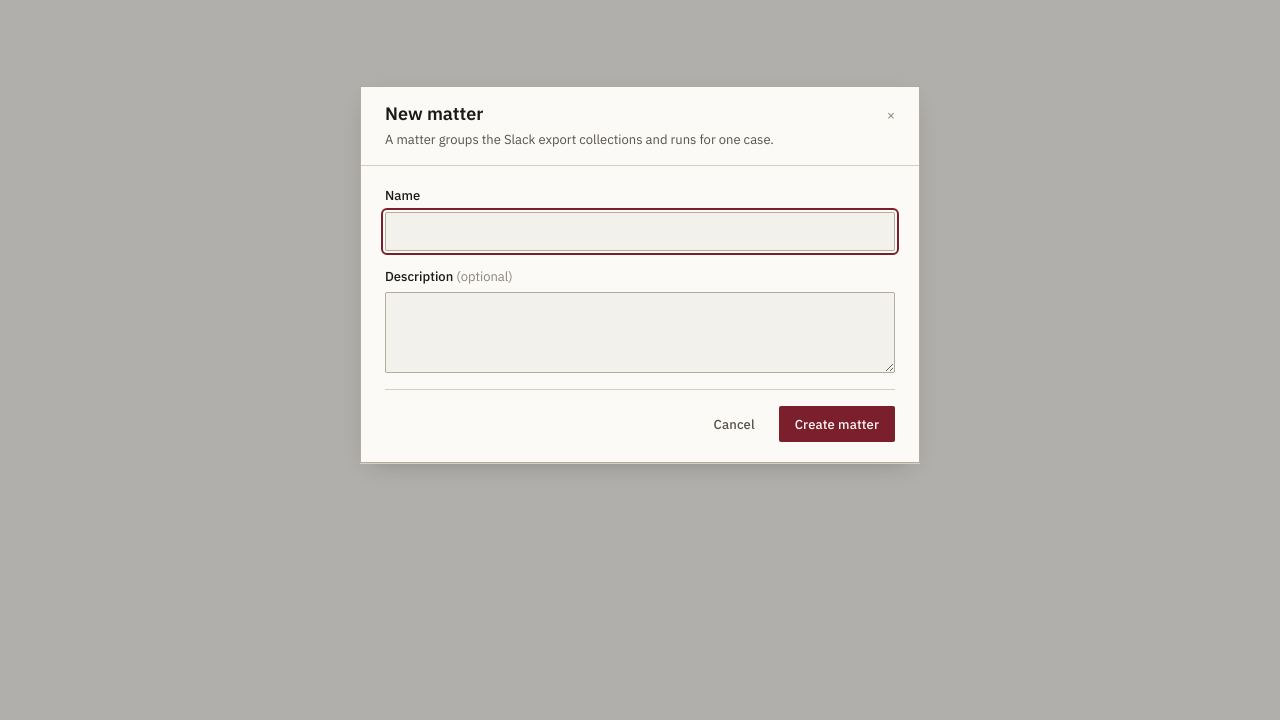
Test: NewMatterDialog › shows_name_taken_error_from_api
Type "acme v. beta" into the field labelled "Name" at (640, 231), box [385, 212, 895, 251]
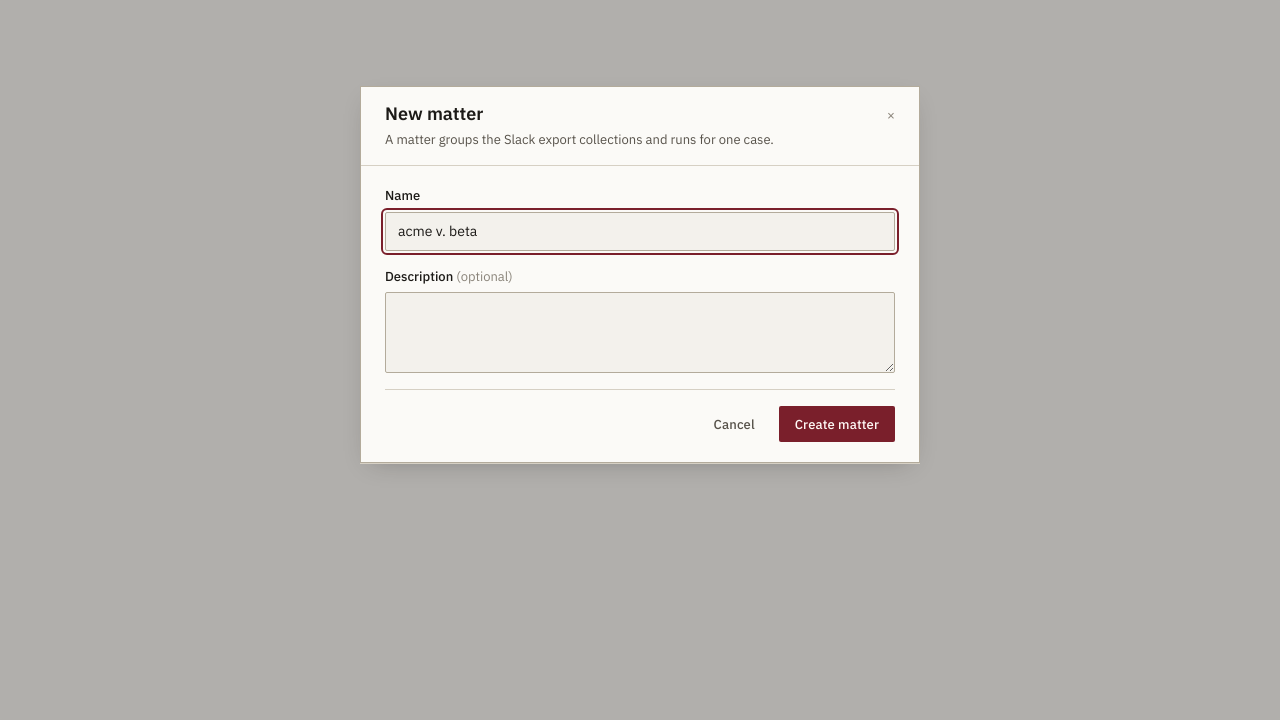
Click the button "Create matter" at (837, 424), box [779, 406, 895, 442]
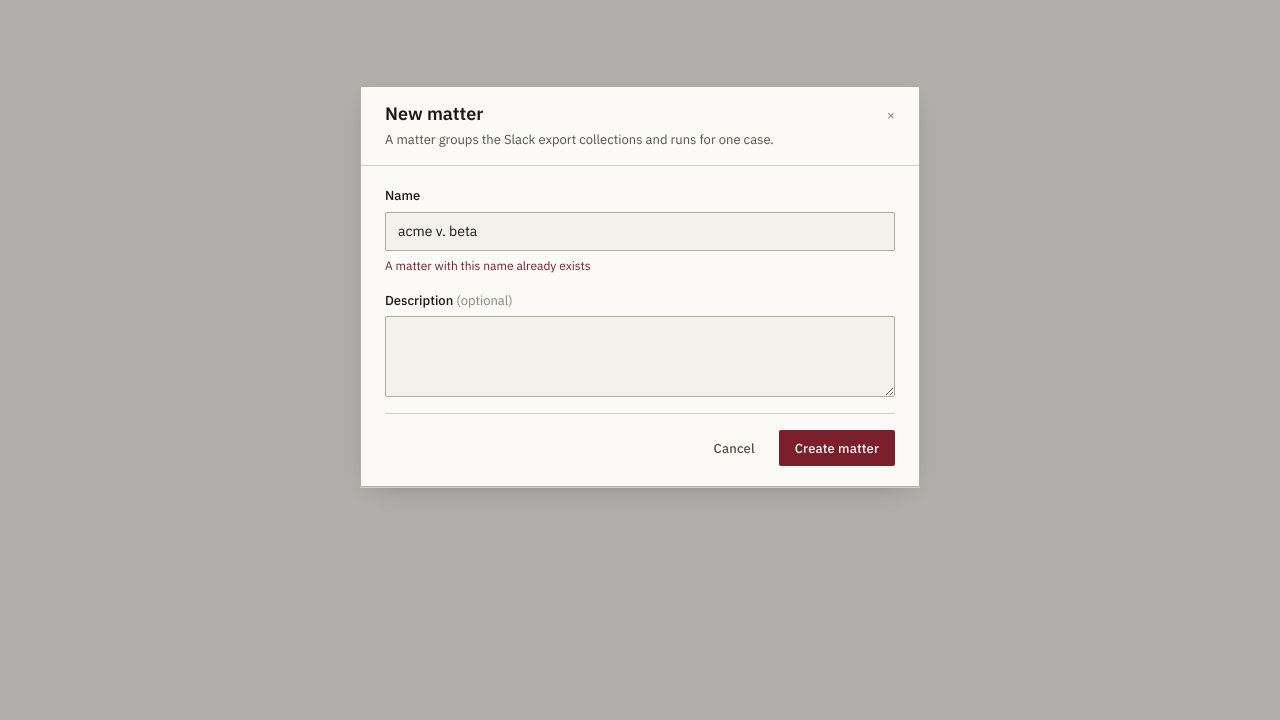
Result: the text "A matter with this name already exists" is shown at [385, 258, 590, 273]
